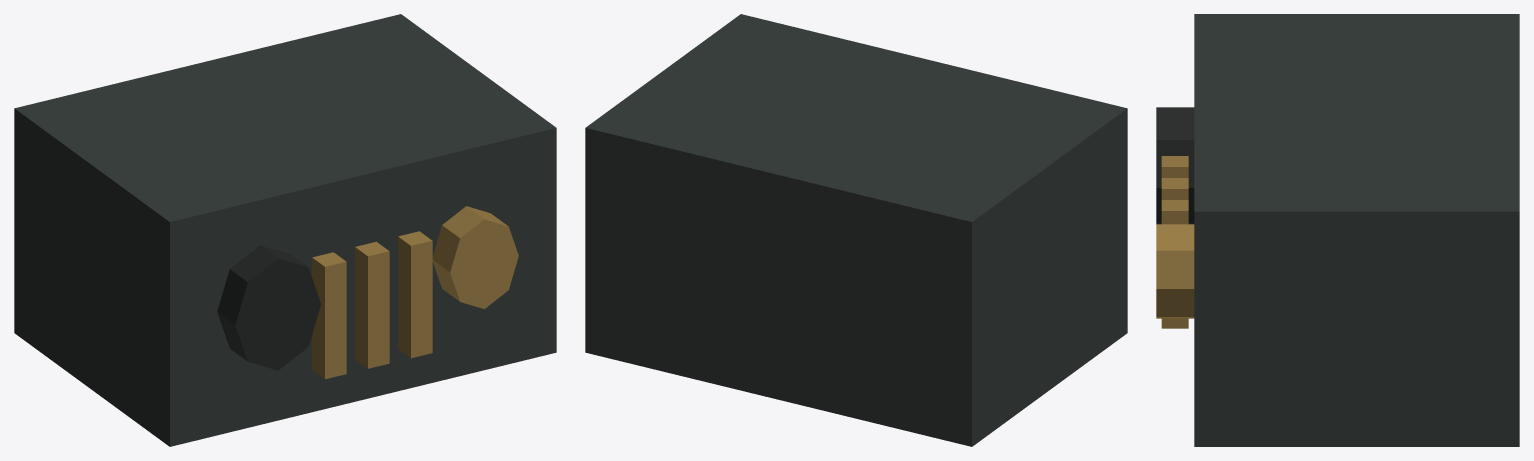
The model's file is FRM_021_C_LODs.fbx.
The picture shows the model from 3 angles, left to right: view 1: azimuth 30°, elevation 25°; view 2: azimuth 150°, elevation 25°; view 3: azimuth 270°, elevation 25°; orthographic projection. The views are drawn at different scales.
Parts seen in each view (by area): view 1: FRM_021_C_LOD0; view 2: FRM_021_C_LOD0; view 3: FRM_021_C_LOD0.
Boxes of the visible parts, bbox=[...] form: FRM_021_C_LOD0: bbox=[14, 14, 556, 446]; FRM_021_C_LOD0: bbox=[585, 14, 1127, 446]; FRM_021_C_LOD0: bbox=[1156, 14, 1519, 446].
Size of what is drawn, in the model's own units: 0.45 by 0.25 by 0.35.
